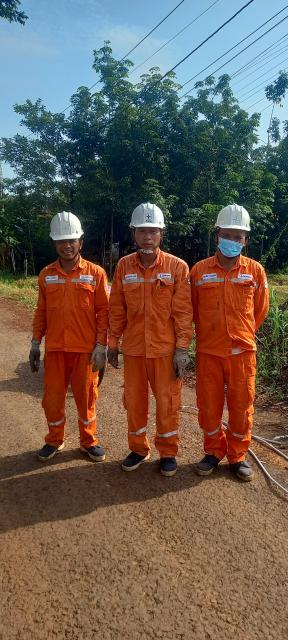gloves: (17, 336, 44, 377), (165, 351, 189, 379), (88, 343, 105, 377), (101, 347, 123, 373)
helmet: (44, 209, 88, 243), (212, 205, 253, 237), (128, 200, 166, 233)
shoes: (30, 433, 64, 462), (76, 441, 112, 465), (120, 446, 152, 473), (232, 455, 262, 482), (195, 450, 222, 477), (158, 453, 182, 481)
